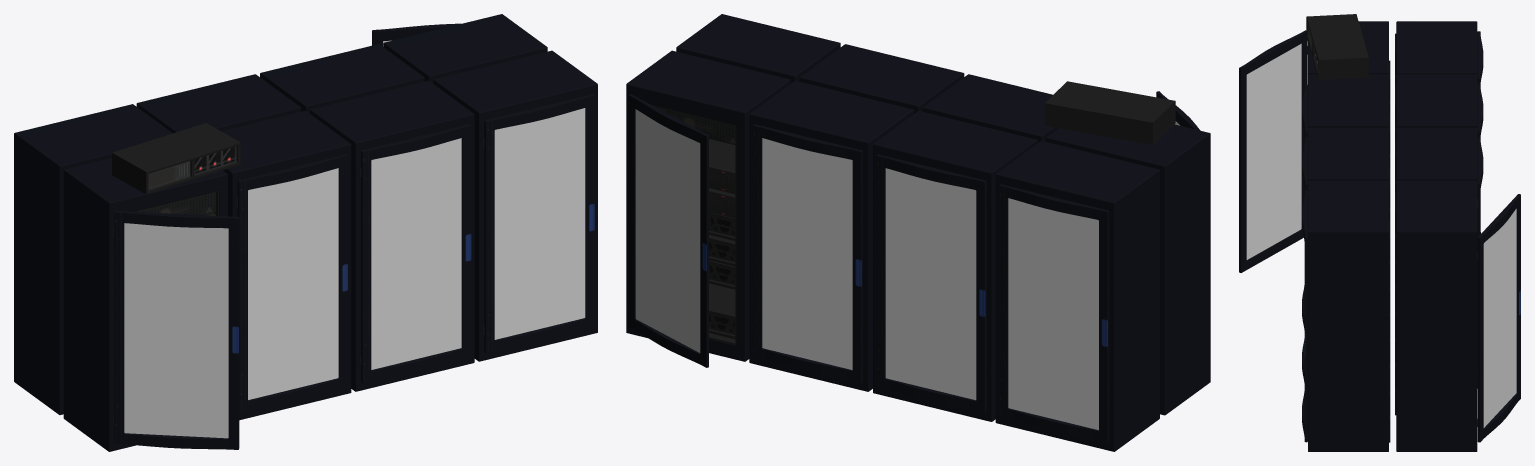
Rendered from Servers_Rows.fbx.
3 views of the same model, side by side, from view 1: azimuth 30°, elevation 25°; view 2: azimuth 150°, elevation 25°; view 3: azimuth 270°, elevation 25° (orthographic). The views are drawn at different scales.
Parts seen in each view (by area): view 1: Door.004, Door.006, Door, Door.002, Server_8, Server_2, Server_4, Server_3, Door.001, Server_1, Servers.001, Server_6 (+3 smaller); view 2: Server_8, Server_6, Server_7, Door.005, Server_5, Server_2, Server_4, Server_3, Servers.001, Server_1; view 3: Server_5, Server_4, Door.002, Door.005, Server_6, Server_8, Server_7, Server_3, Server_1, Door.001, Servers.001, Server_2 (+3 smaller).
Boxes of the visible parts, x1,y1,x2,y2 form: Door.004: (361, 124, 471, 383); Door.006: (484, 94, 594, 353); Door: (237, 154, 347, 413); Door.002: (124, 223, 228, 438); Server_8: (14, 104, 172, 414); Server_2: (63, 158, 227, 451); Server_4: (433, 50, 597, 361); Server_3: (310, 80, 474, 391); Door.001: (114, 211, 239, 449); Server_1: (221, 110, 351, 420); Servers.001: (112, 123, 240, 215); Server_6: (260, 44, 424, 113); Server_8: (995, 140, 1159, 451); Server_6: (749, 80, 913, 391); Server_7: (873, 111, 1037, 421); Door.005: (628, 94, 708, 367); Server_5: (626, 50, 790, 361); Server_2: (1046, 124, 1210, 415); Server_4: (676, 14, 840, 83); Server_3: (799, 44, 964, 113); Servers.001: (1045, 81, 1175, 145); Server_1: (923, 74, 1058, 143); Server_5: (1395, 180, 1477, 451); Server_4: (1308, 180, 1390, 451); Door.002: (1246, 43, 1301, 259); Door.005: (1477, 194, 1520, 442); Server_6: (1395, 127, 1483, 388); Server_8: (1395, 21, 1483, 233); Server_7: (1395, 74, 1483, 139); Server_3: (1308, 127, 1390, 219); Server_1: (1308, 74, 1390, 166); Door.001: (1239, 30, 1307, 272); Servers.001: (1306, 14, 1368, 79); Server_2: (1307, 21, 1390, 113).
Bounding box in the file's own units: 410 × 218 × 232.
